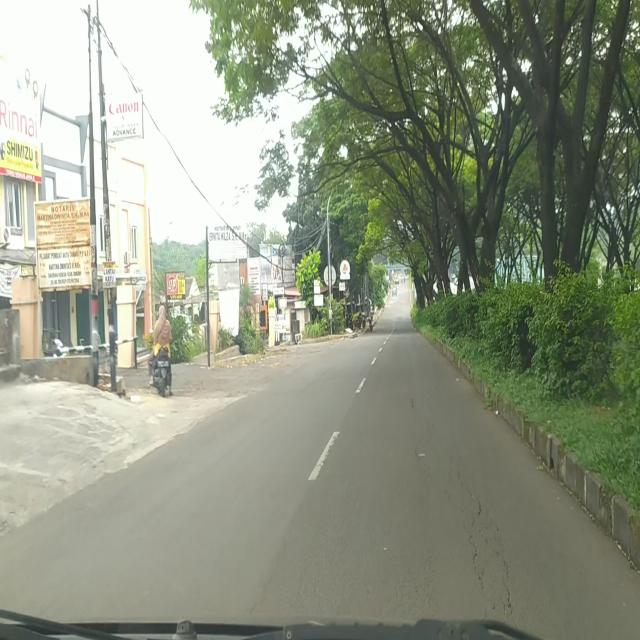Drain Hole: (449, 456, 515, 618)
